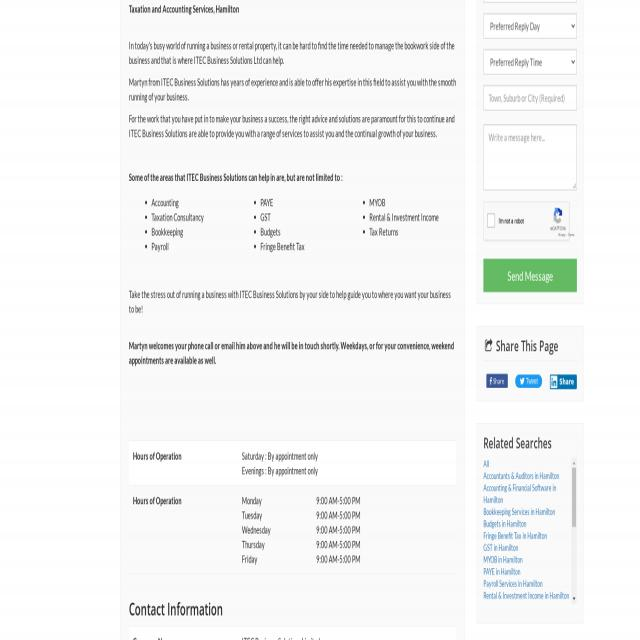button: (483, 258, 577, 292), (514, 372, 542, 388), (550, 374, 578, 389), (486, 374, 508, 388), (572, 470, 577, 527), (571, 457, 577, 468), (572, 593, 577, 602)
field: (484, 124, 576, 192), (483, 85, 577, 110), (483, 49, 577, 74), (483, 14, 577, 38), (488, 214, 494, 226)
